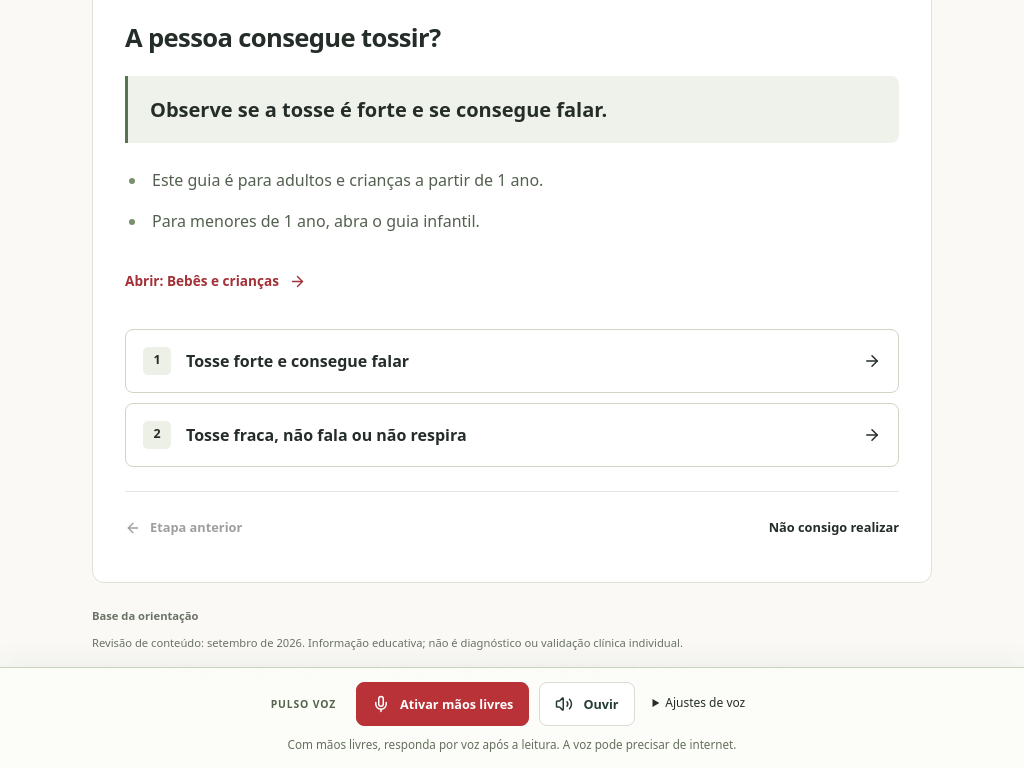
Test: a severe choking answer opens the severe branch, and back restores the question
(page scrolled)
Step 1. Click the button with aria-label "Opção 2: Tosse fraca, não fala ou não respira" → (326,435), box [125,402,899,466]
(page scrolled)
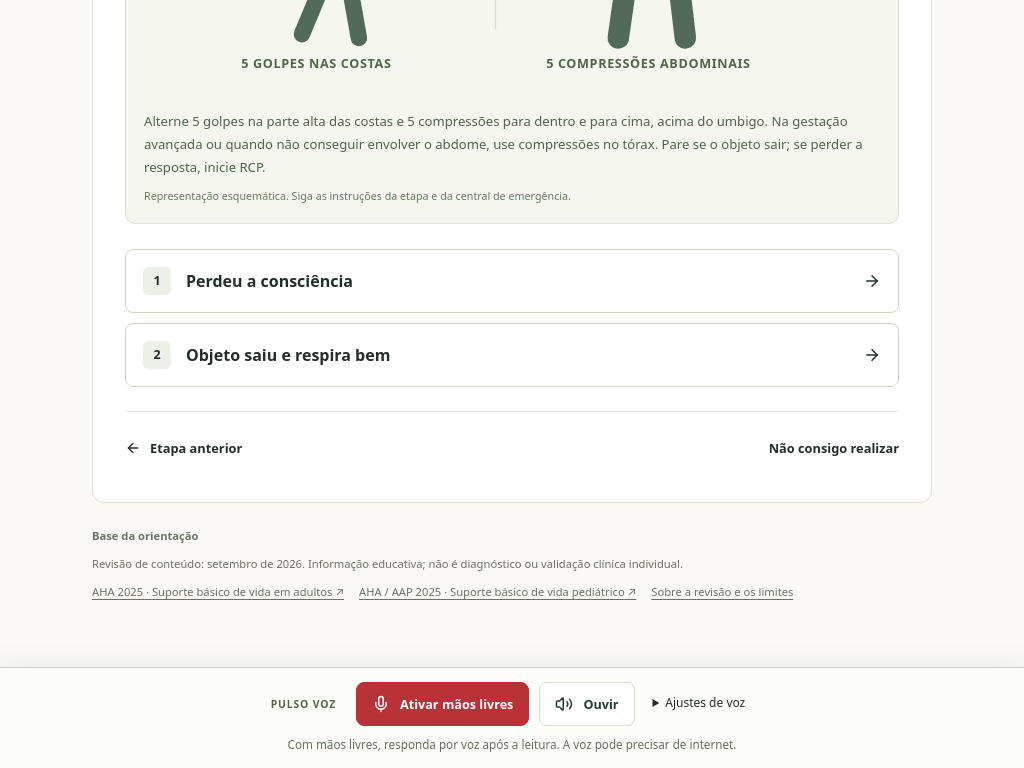
Step 2. Click the button "Etapa anterior" → (184,448), box [125,426,242,470]
(page scrolled)
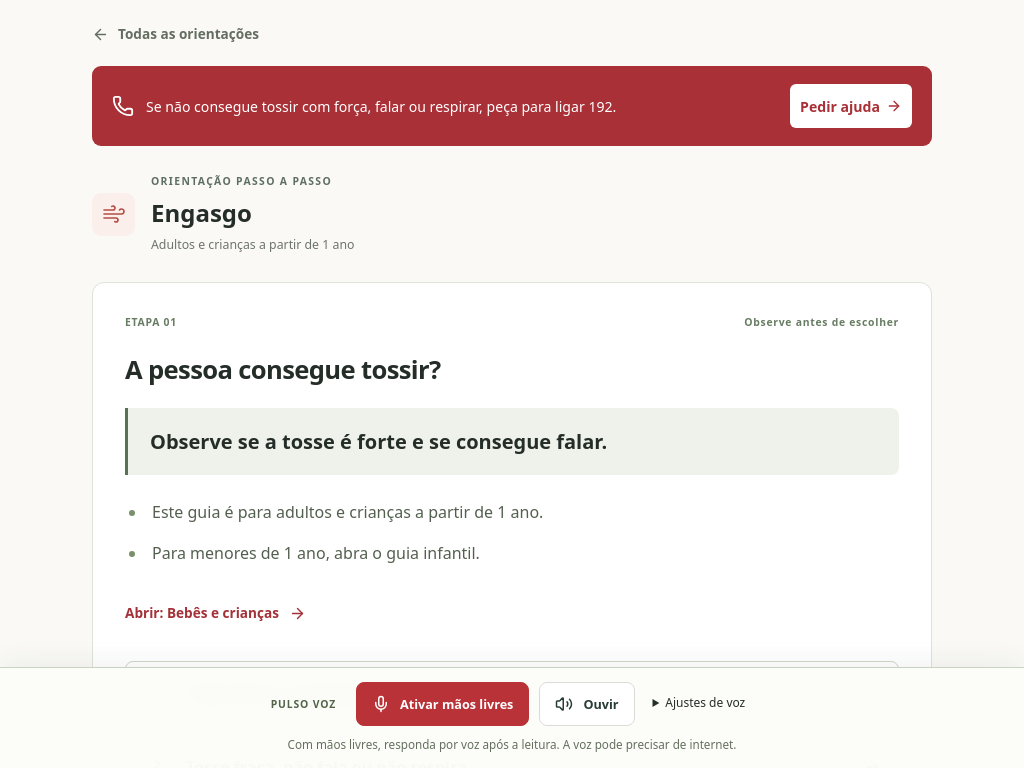
Result: the heading "A pessoa consegue tossir?" is shown at [125,352,440,387]
